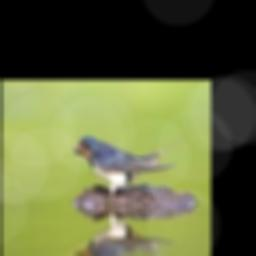Swallow: (74, 135, 190, 197)
